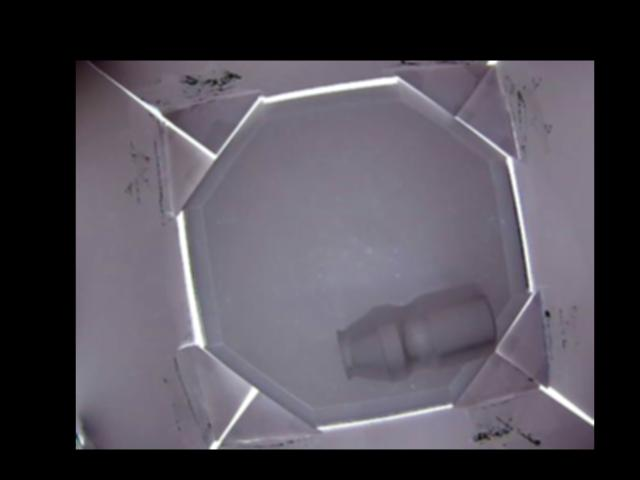Bottle: (334, 280, 500, 378)
